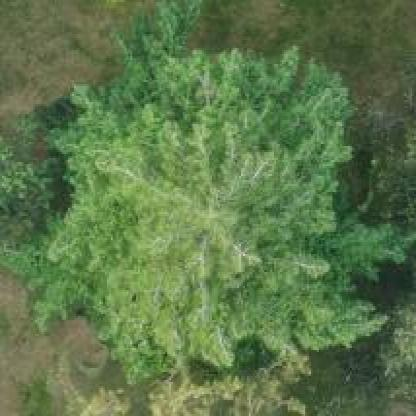Coniferous Tree: (30, 36, 365, 376)
